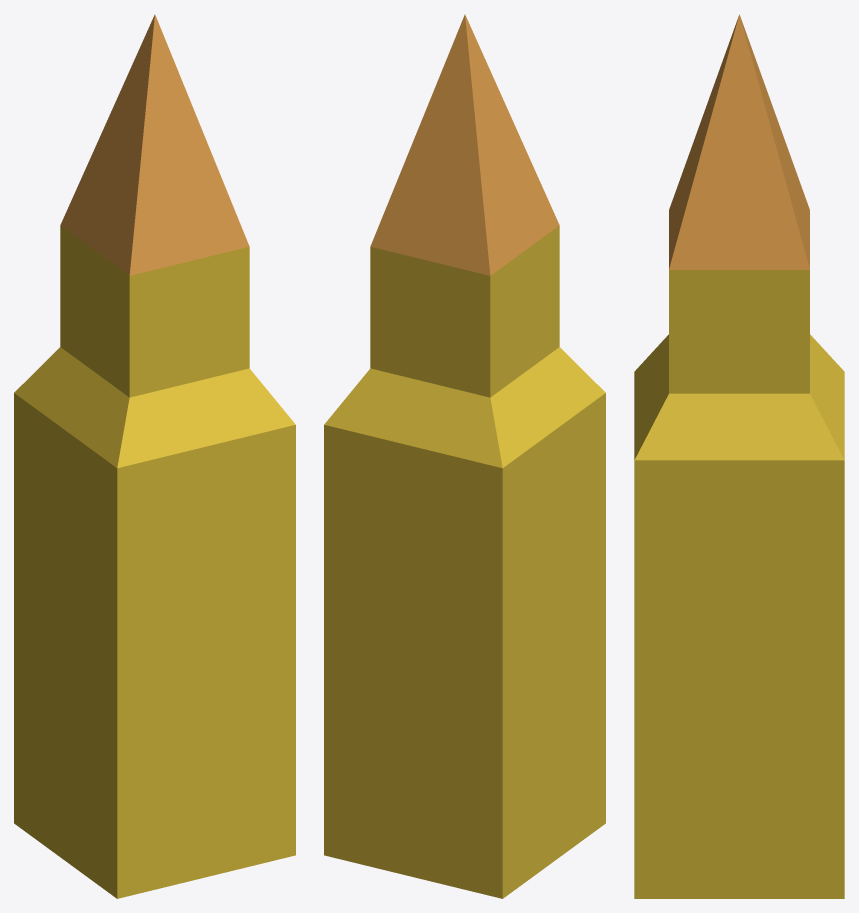
File: bullet.fbx
3 renders of one model, left to right at view 1: azimuth 30°, elevation 25°; view 2: azimuth 150°, elevation 25°; view 3: azimuth 270°, elevation 25°, orthographic.
Parts seen in each view (by area): view 1: Cube; view 2: Cube; view 3: Cube.
Boxes of the visible parts, x1,y1,x2,y2 form: Cube: (14, 14, 295, 898); Cube: (324, 14, 605, 898); Cube: (634, 14, 844, 898).
Size of the model in its own units: 33.94 by 150 by 33.94.
